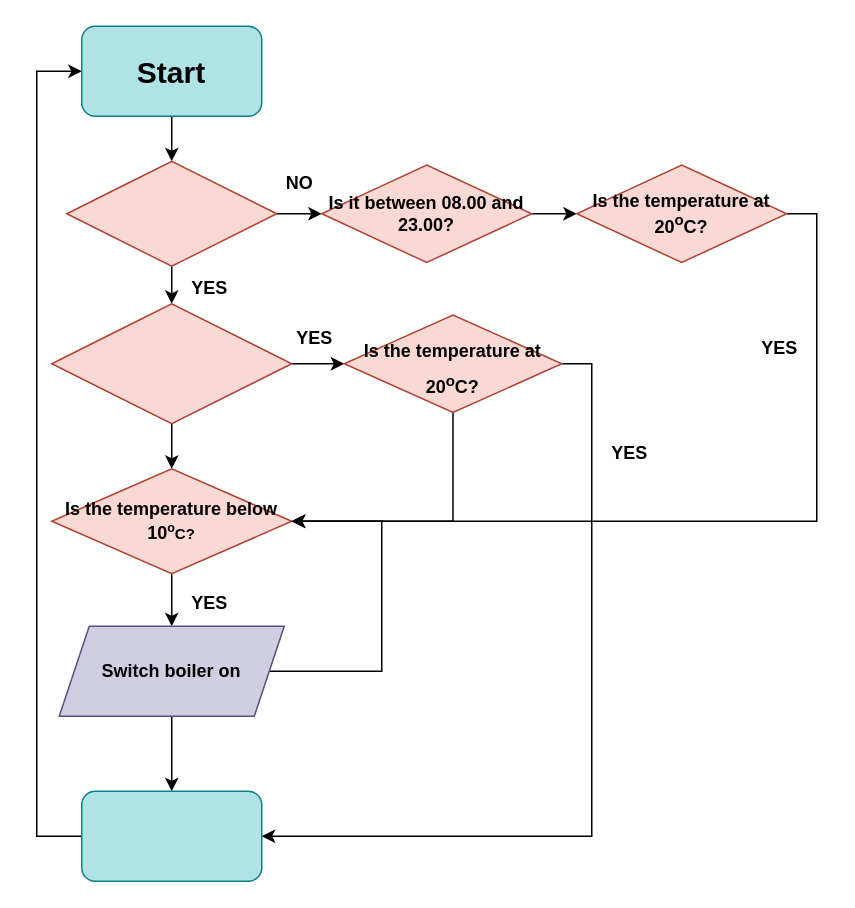
This 855x908 diagram has some shape labels left out. The centre of each missing label's shape, as x and y in pixels:
End: point (171, 835)
Is it between 06.00 and 08.30 in the morning and 17.30 - 22.00 at night?: point (171, 363)
Is it during the week: point (171, 213)
